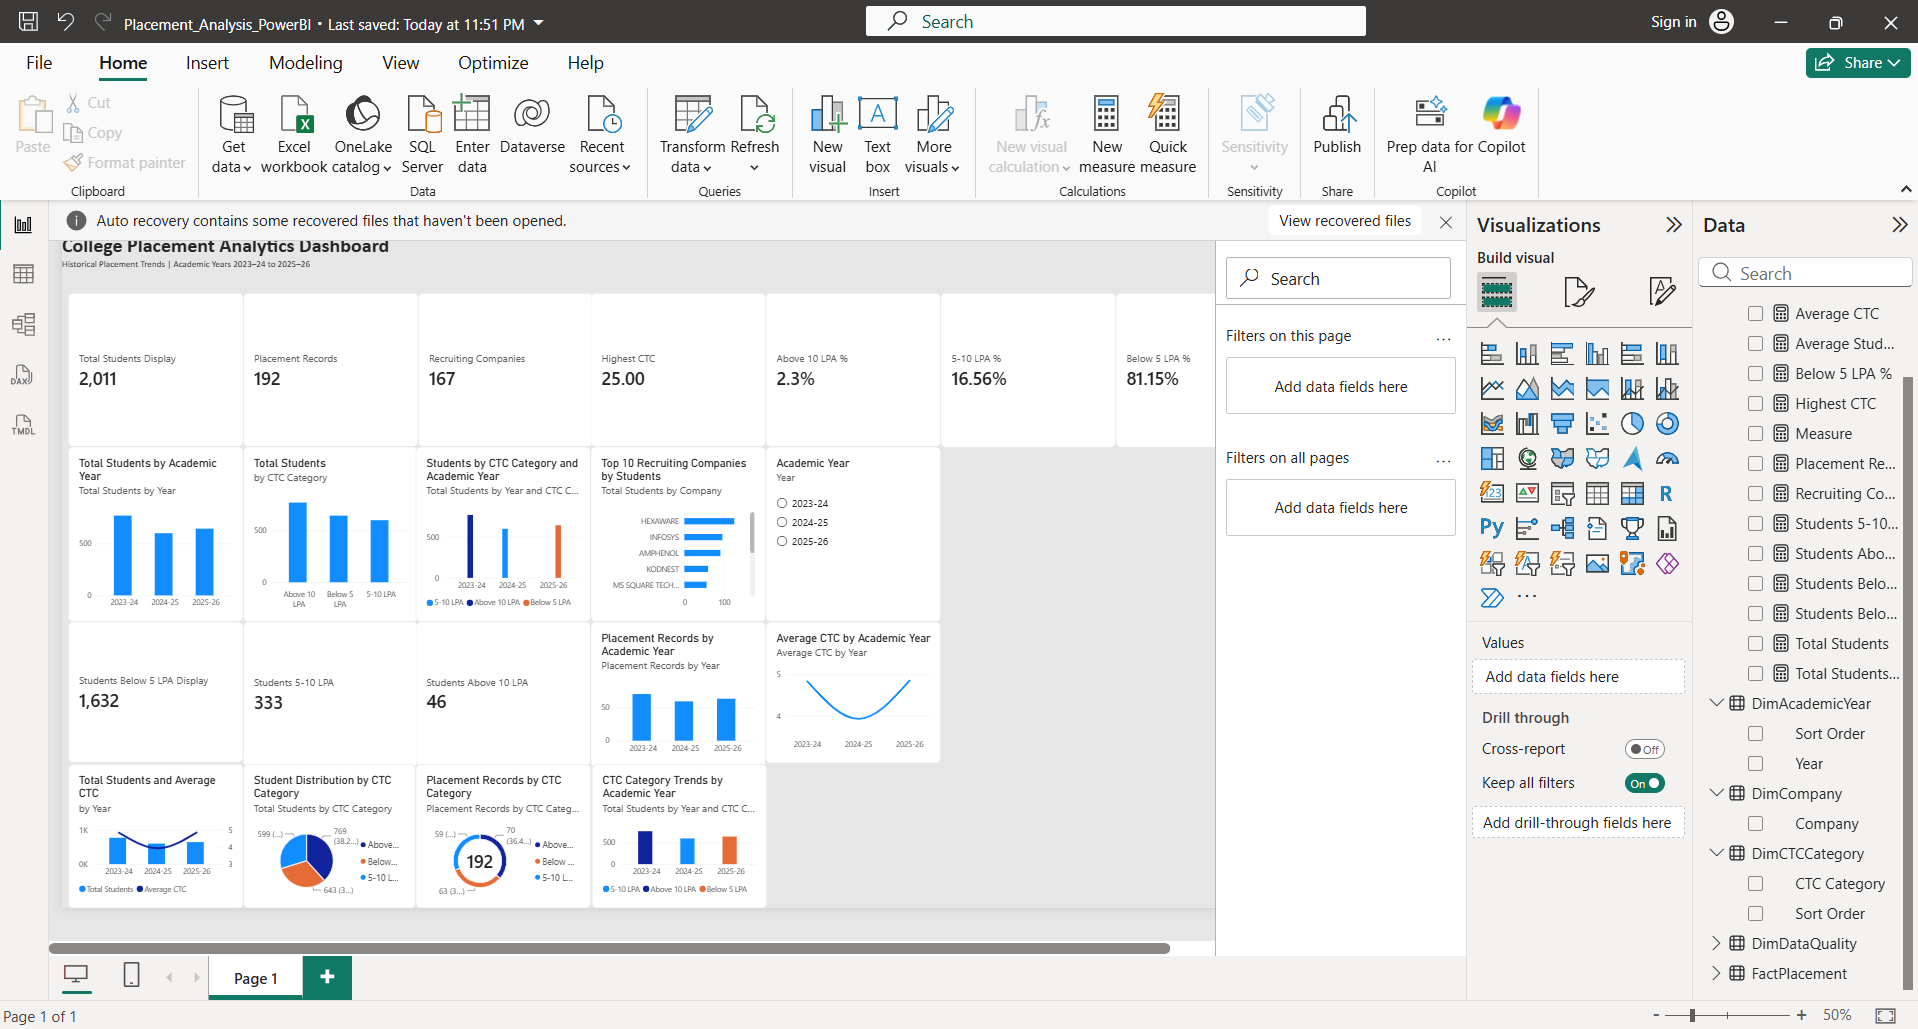

What the dashboard file says about the page in this screenshot:
{"tool":"powerbi","page":{"name":"Page 1","canvas":[1920,1080],"ordinal":0},"visuals":[{"type":"cardVisual","fields":{"Data":["Measures (2).Placement Records"]},"box":[290,96,280,246.7],"z":0},{"type":"cardVisual","fields":{"Data":["Measures (2).Recruiting Companies"]},"box":[570,96,280,246.7],"z":1000},{"type":"cardVisual","fields":{"Data":["Measures (2).Highest CTC"]},"box":[844.6,96.4,280,246.7],"z":2000},{"type":"cardVisual","fields":{"Data":["Measures (2).Above 10 LPA %"]},"box":[1125,96,280,246.7],"z":3000},{"type":"lineClusteredColumnComboChart","title":"Total Students by Academic Year","fields":{"Category":["DimAcademicYear.Year"],"Y":["Measures (2).Total Students"]},"box":[10,342.5,350,280],"z":4000},{"type":"clusteredColumnChart","fields":{"Category":["DimCTCCategory.CTC Category"],"Y":["Measures (2).Total Students"]},"box":[360.7,342,350,280],"z":5000},{"type":"clusteredColumnChart","title":"Students by CTC Category and Academic Year","fields":{"Category":["DimAcademicYear.Year"],"Series":["DimCTCCategory.CTC Category"],"Y":["Measures (2).Total Students"]},"box":[710.7,342,350,280],"z":6000},{"type":"clusteredBarChart","title":"Top 10 Recruiting Companies by Students","fields":{"Category":["DimCompany.Company"],"Y":["Measures (2).Total Students"]},"box":[1060.7,342.9,350,280],"z":7000},{"type":"listSlicer","title":"Academic Year","fields":{"Values":["DimAcademicYear.Year"]},"box":[1410.7,342.9,230.4,280.4],"z":8000},{"type":"cardVisual","fields":{"Data":["Measures (2).Students 5-10 LPA"]},"box":[291.1,623.2,280,225],"z":9000},{"type":"cardVisual","fields":{"Data":["Measures (2).Students Below 5 LPA Display"]},"box":[10,622.5,280,225],"z":10000},{"type":"cardVisual","fields":{"Data":["Measures (2).Total Students Display"]},"box":[10.7,96.4,280,246.7],"z":11000},{"type":"cardVisual","fields":{"Data":["Measures (2).Students Above 10 LPA"]},"box":[571.4,623.2,280,225],"z":12000},{"type":"cardVisual","fields":{"Data":["Measures (2).Below 5 LPA %"]},"box":[1685,96,235,246],"z":13000},{"type":"cardVisual","fields":{"Data":["Measures (2).5-10 LPA %"]},"box":[1405,96,280,246],"z":14000},{"type":"lineChart","title":"Average CTC by Academic Year","fields":{"Category":["DimAcademicYear.Year"],"Y":["Measures (2).Average CTC"]},"box":[1201.8,623.2,350,225],"z":15000},{"type":"clusteredColumnChart","title":"Placement Records by Academic Year","fields":{"Category":["DimAcademicYear.Year"],"Y":["Measures (2).Placement Records"]},"box":[1544.7,623.2,375,225],"z":16000},{"type":"lineClusteredColumnComboChart","fields":{"Category":["DimAcademicYear.Year"],"Y":["Measures (2).Total Students"],"Y2":["Measures (2).Average CTC"]},"box":[10,850,350,230],"z":17000},{"type":"pieChart","title":"Student Distribution by CTC Category","fields":{"Category":["DimCTCCategory.CTC Category"],"Y":["Measures (2).Total Students"]},"box":[360.7,850,350,230],"z":18000},{"type":"donutChart","title":"Placement Records by CTC Category","fields":{"Category":["DimCTCCategory.CTC Category"],"Y":["Measures (2).Placement Records"]},"box":[710.7,850,350,230],"z":19000},{"type":"ribbonChart","title":"CTC Category Trends by Academic Year","fields":{"Category":["DimAcademicYear.Year"],"Series":["DimCTCCategory.CTC Category"],"Y":["Measures (2).Total Students"]},"box":[1060.7,850,350,230],"z":20000},{"type":"textbox","box":[0,0,1690,95],"z":21000},{"type":"cardVisual","fields":{"Data":["Measures (2).Recruiting Companies"]},"box":[851.8,623.2,350,225],"z":21001},{"type":"tableEx","fields":{"Values":["DimCompany.Company","Measures (2).Total Students"]},"box":[1410.7,850,508.9,230.4],"z":21002},{"type":"gauge","title":"Average CTC vs Highest CTC","fields":{"Y":["Measures (2).Average CTC"],"TargetValue":["Measures (2).Highest CTC"],"MaxValue":["Measures (2).Highest CTC"]},"box":[1641.1,342.9,278.6,280.4],"z":21003}]}

Visuals, with their boxes on the page's 1920x1080 design canvas (x1, y1, x2, y2). These are canvas units, not pixel positions in the 1918x1029 screenshot, which may show the page scaled, cropped or inside an application window:
cardVisual - Measures (2).Placement Records: locate(290, 96, 570, 343)
cardVisual - Measures (2).Recruiting Companies: locate(570, 96, 850, 343)
cardVisual - Measures (2).Highest CTC: locate(845, 96, 1125, 343)
cardVisual - Measures (2).Above 10 LPA %: locate(1125, 96, 1405, 343)
"Total Students by Academic Year" lineClusteredColumnComboChart: locate(10, 342, 360, 622)
clusteredColumnChart - DimCTCCategory.CTC Category x Measures (2).Total Students: locate(361, 342, 711, 622)
"Students by CTC Category and Academic Year" clusteredColumnChart: locate(711, 342, 1061, 622)
"Top 10 Recruiting Companies by Students" clusteredBarChart: locate(1061, 343, 1411, 623)
"Academic Year" listSlicer: locate(1411, 343, 1641, 623)
cardVisual - Measures (2).Students 5-10 LPA: locate(291, 623, 571, 848)
cardVisual - Measures (2).Students Below 5 LPA Display: locate(10, 622, 290, 848)
cardVisual - Measures (2).Total Students Display: locate(11, 96, 291, 343)
cardVisual - Measures (2).Students Above 10 LPA: locate(571, 623, 851, 848)
cardVisual - Measures (2).Below 5 LPA %: locate(1685, 96, 1920, 342)
cardVisual - Measures (2).5-10 LPA %: locate(1405, 96, 1685, 342)
"Average CTC by Academic Year" lineChart: locate(1202, 623, 1552, 848)
"Placement Records by Academic Year" clusteredColumnChart: locate(1545, 623, 1920, 848)
lineClusteredColumnComboChart - DimAcademicYear.Year x Measures (2).Total Students: locate(10, 850, 360, 1080)
"Student Distribution by CTC Category" pieChart: locate(361, 850, 711, 1080)
"Placement Records by CTC Category" donutChart: locate(711, 850, 1061, 1080)
"CTC Category Trends by Academic Year" ribbonChart: locate(1061, 850, 1411, 1080)
textbox: locate(0, 0, 1690, 95)
cardVisual - Measures (2).Recruiting Companies: locate(852, 623, 1202, 848)
tableEx - DimCompany.Company x Measures (2).Total Students: locate(1411, 850, 1920, 1080)
"Average CTC vs Highest CTC" gauge: locate(1641, 343, 1920, 623)
